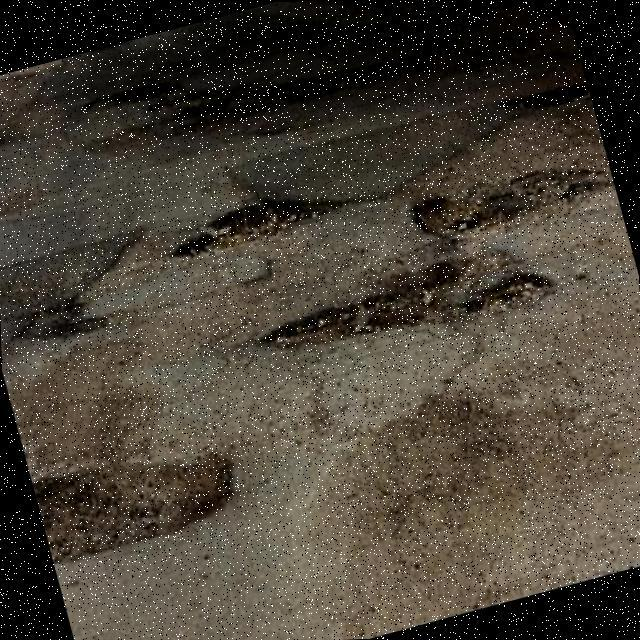Pothole: (265, 247, 552, 348), (88, 59, 391, 152), (30, 445, 235, 568), (414, 165, 615, 240), (169, 196, 336, 262), (18, 300, 104, 348), (92, 82, 181, 111), (506, 83, 588, 111)
